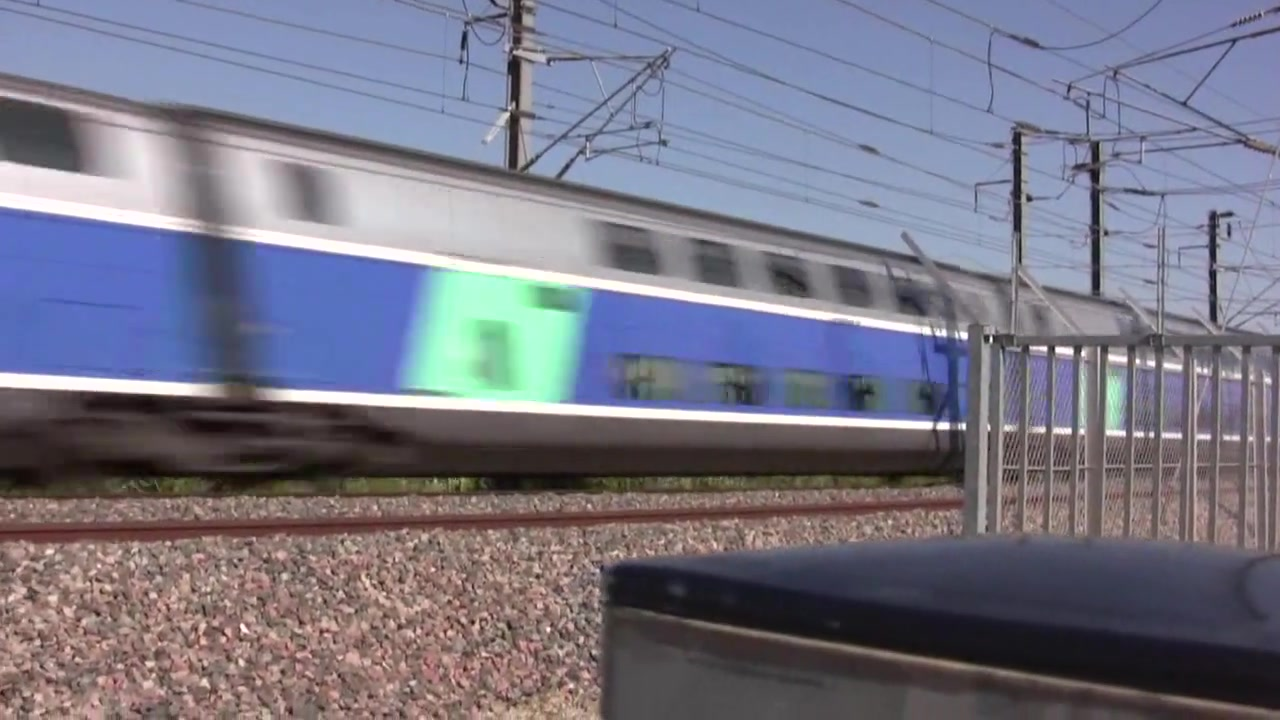train: (1, 72, 1280, 489)
